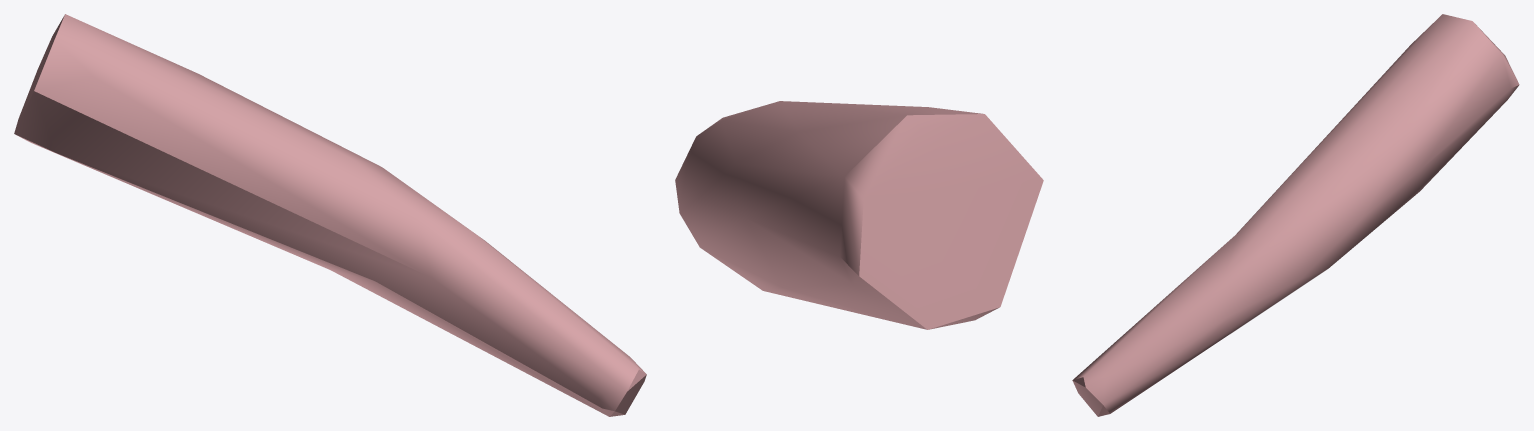
File: fma68230_fj2537.glb
3 renders of one model, left to right at view 1: azimuth 30°, elevation 25°; view 2: azimuth 150°, elevation 25°; view 3: azimuth 270°, elevation 25°, orthographic. The views are drawn at different scales.
Parts seen in each view (by area): view 1: FMA68230_FJ2537; view 2: FMA68230_FJ2537; view 3: FMA68230_FJ2537.
Part boxes in pixels (box(x1,y1,x2,y2)): FMA68230_FJ2537: box(14, 14, 646, 416); FMA68230_FJ2537: box(675, 101, 1043, 329); FMA68230_FJ2537: box(1072, 14, 1519, 416).
Size of the model in its own units: 0.0157 by 0.0115 by 0.0178.
